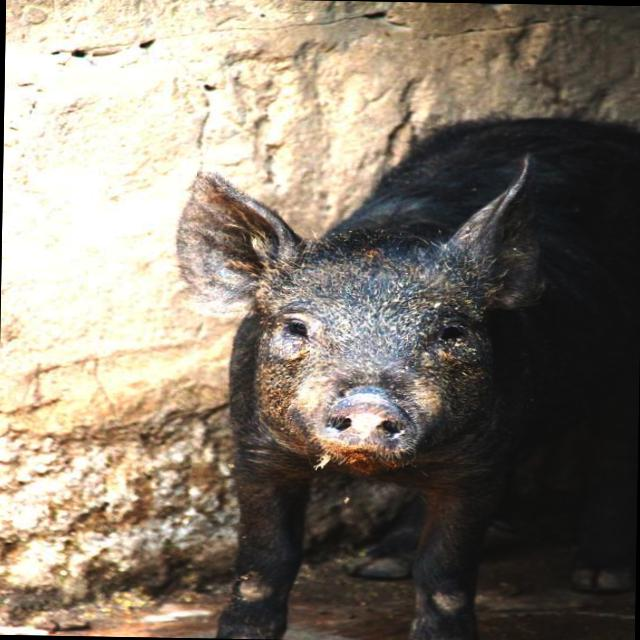pig: (177, 118, 640, 640)
